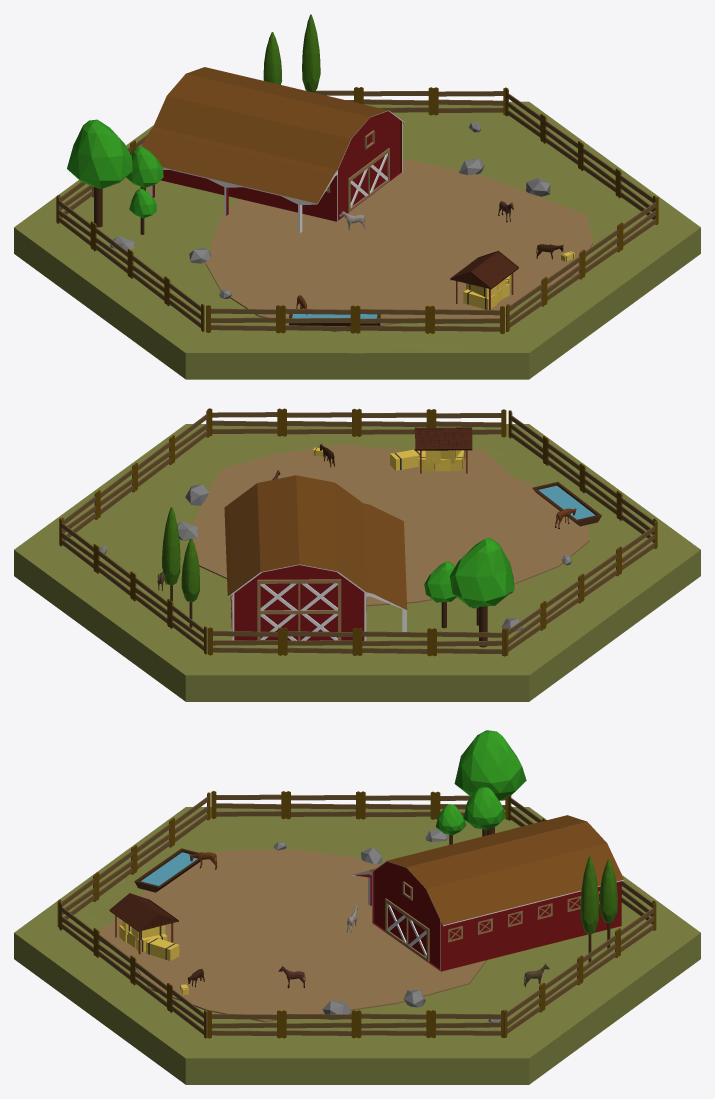
Rendered from Barn 2.fbx.
The picture shows the model from 3 angles, top to bottom: view 1: azimuth 30°, elevation 25°; view 2: azimuth 150°, elevation 25°; view 3: azimuth 270°, elevation 25°; orthographic projection.
Visible parts, largest first — view 1: Cube.002; view 2: Cube.002; view 3: Cube.002.
Boxes of the visible parts, x1,y1,x2,y2 form: Cube.002: [14, 14, 700, 379]; Cube.002: [14, 408, 700, 701]; Cube.002: [14, 730, 700, 1084].
Bounding box in the file's own units: 100 × 25.49 × 116.
